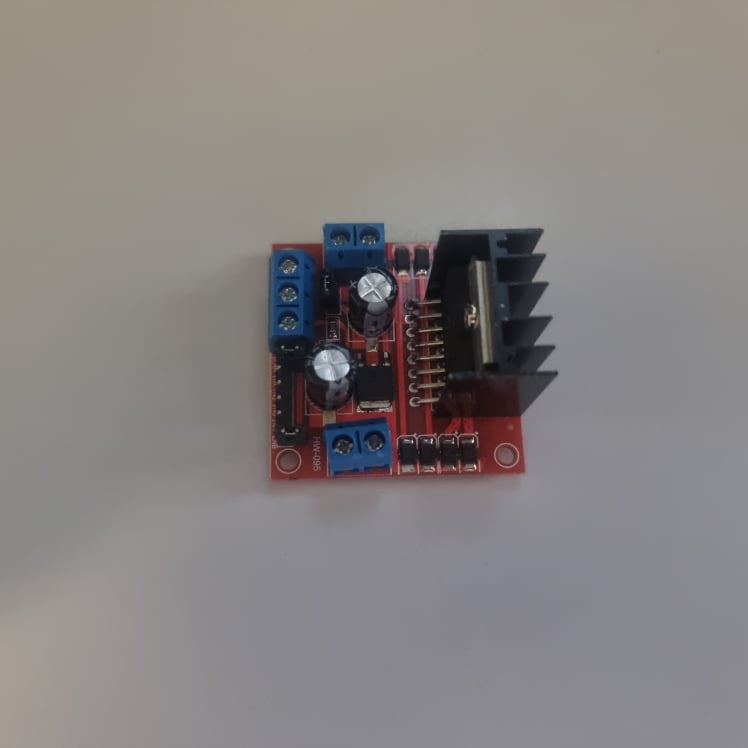MOTOR: (266, 222, 564, 477)
